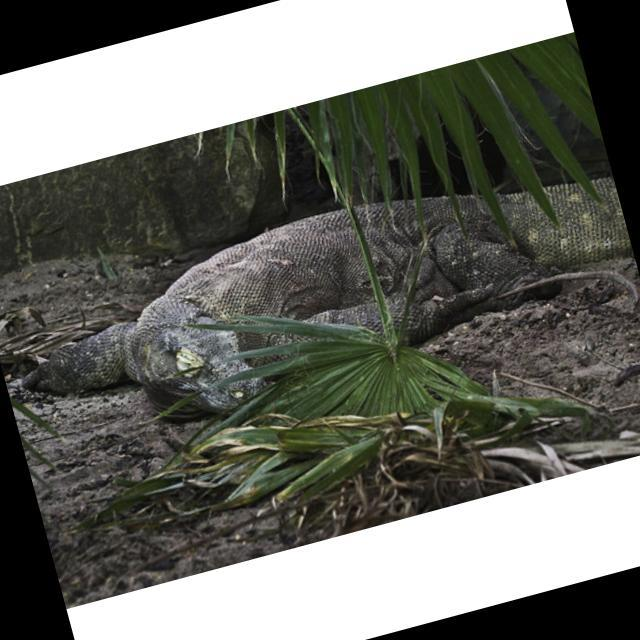KomodoDragon: (0, 130, 640, 467)
